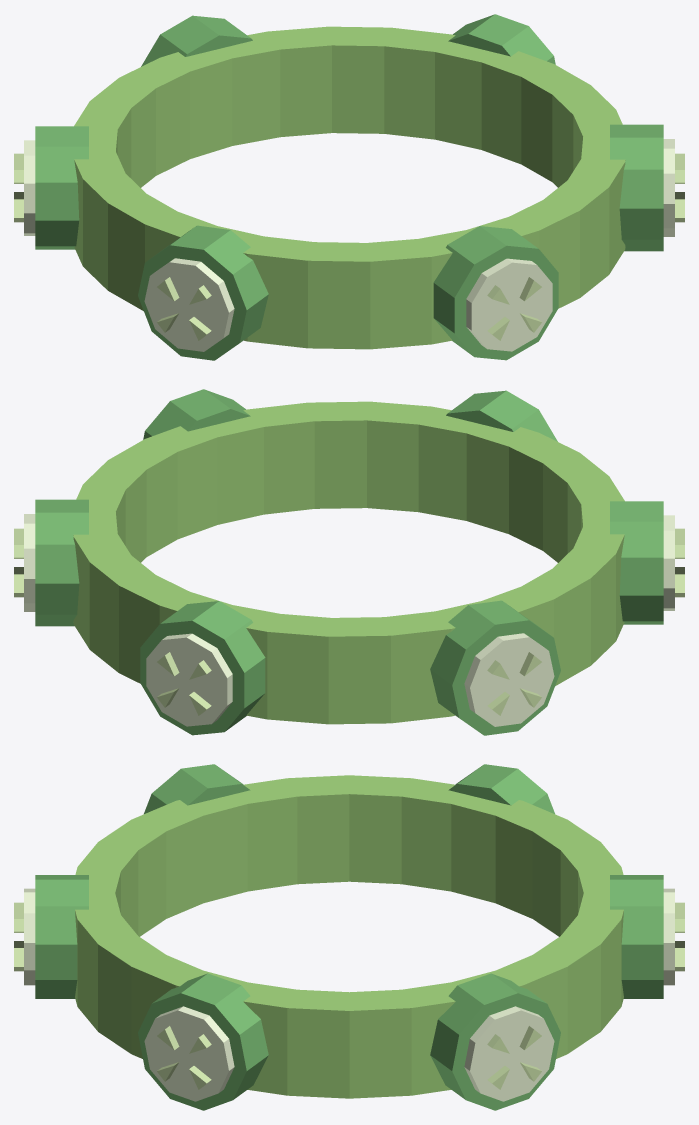
Rendered from CucumberBand.fbx.
3 renders of one model, top to bottom at view 1: azimuth 30°, elevation 25°; view 2: azimuth 150°, elevation 25°; view 3: azimuth 270°, elevation 25°, orthographic.
Visible parts, largest first — view 1: CucumberBand.Band, CucumberBand.Rinds, CucumberBand.Flesh, CucumberBand.Seeds; view 2: CucumberBand.Band, CucumberBand.Rinds, CucumberBand.Flesh, CucumberBand.Seeds; view 3: CucumberBand.Band, CucumberBand.Rinds, CucumberBand.Flesh, CucumberBand.Seeds.
Part boxes in pixels (x1,y1,x2,y2): CucumberBand.Band: (74,26,625,349); CucumberBand.Rinds: (35,14,663,360); CucumberBand.Flesh: (24,139,674,351); CucumberBand.Seeds: (14,153,684,340); CucumberBand.Band: (73,401,624,724); CucumberBand.Rinds: (35,389,663,735); CucumberBand.Flesh: (24,514,674,726); CucumberBand.Seeds: (14,528,684,715); CucumberBand.Band: (75,775,623,1098); CucumberBand.Rinds: (35,764,663,1110); CucumberBand.Flesh: (24,888,674,1101); CucumberBand.Seeds: (14,902,684,1089).
Bounding box in the file's own units: 1.65 × 0.34 × 1.8.
